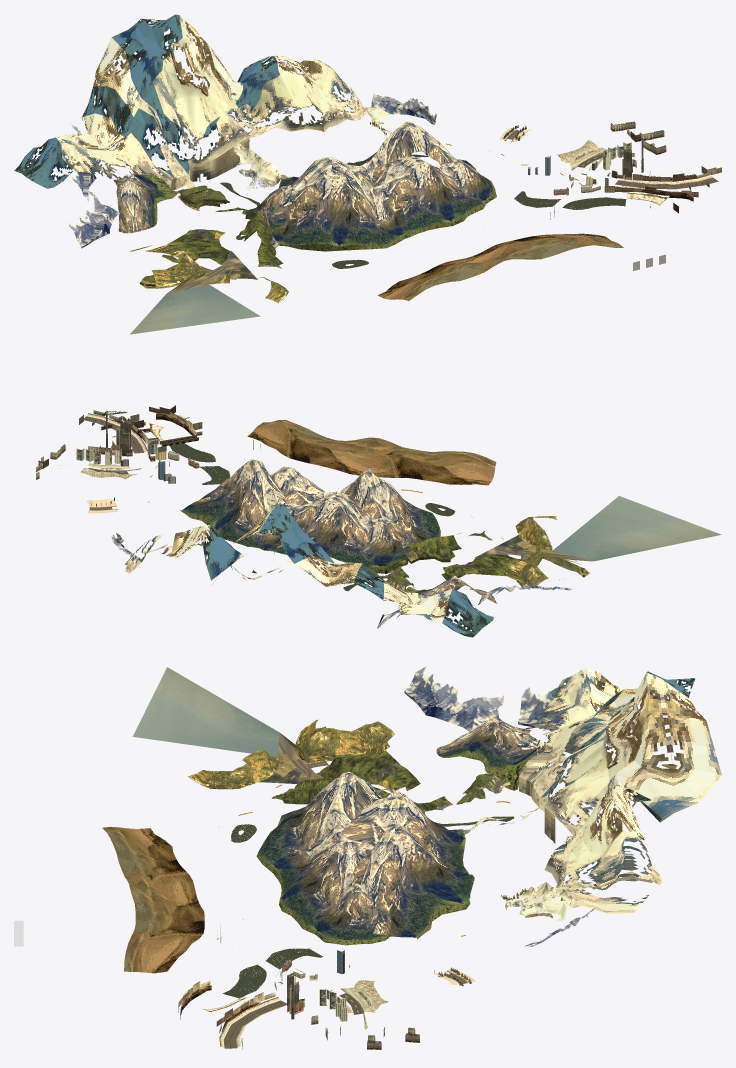
The model's file is track-EU_C2_V2_env.glb.
3 renders of one model, top to bottom at view 1: azimuth 30°, elevation 25°; view 2: azimuth 150°, elevation 25°; view 3: azimuth 270°, elevation 25°, orthographic. The views are drawn at different scales.
Parts seen in each view (by area): view 1: EU_C2_V2_env; view 2: EU_C2_V2_env; view 3: EU_C2_V2_env.
Boxes of the visible parts, x1,y1,x2,y2 form: EU_C2_V2_env: (14, 14, 721, 334); EU_C2_V2_env: (36, 405, 721, 637); EU_C2_V2_env: (14, 666, 721, 1049).
Bounding box in the file's own units: 4786 × 986 × 3857.
52 materials, 51 textured.
